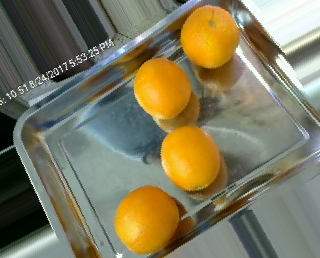Orange: (115, 185, 181, 253), (160, 124, 221, 191), (178, 4, 239, 68), (134, 57, 192, 118)
